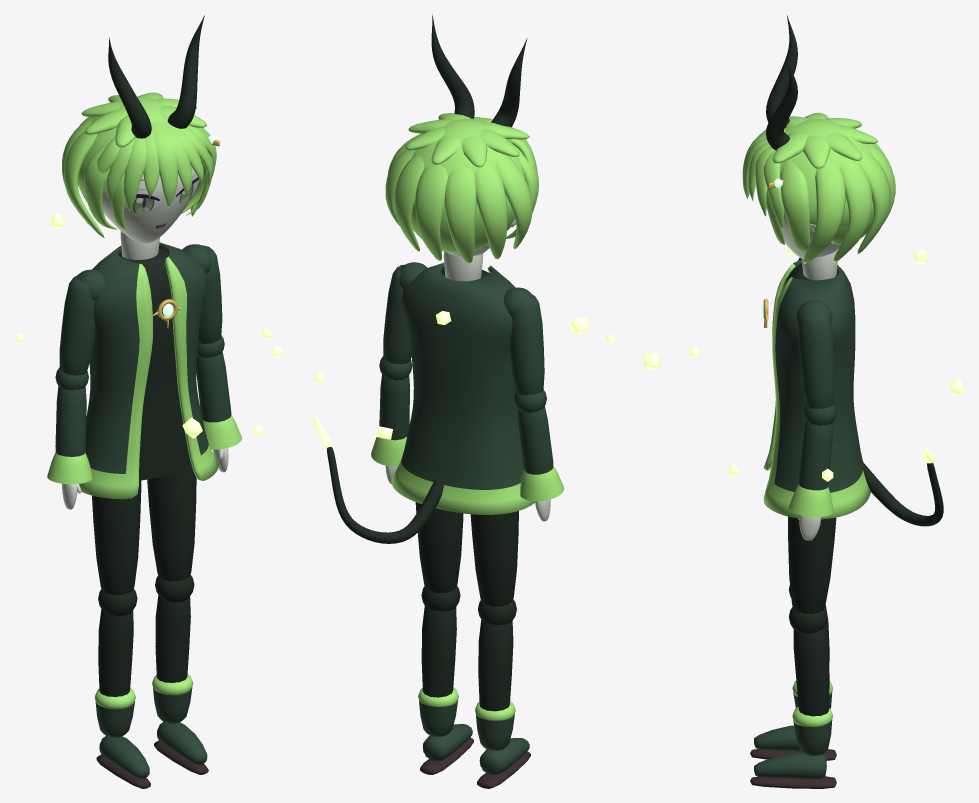
The model's file is segfault.glb.
The picture shows the model from 3 angles, left to right: view 1: azimuth 30°, elevation 25°; view 2: azimuth 150°, elevation 25°; view 3: azimuth 270°, elevation 25°; orthographic projection.
Visible parts, largest first — view 1: segfault:body.mesh, segfault:head.mesh, segfault:shinL.mesh, segfault:shinR.mesh, segfault:legR.mesh, segfault:legL.mesh, segfault:foreL.mesh, segfault:foreR.mesh, segfault:armL.mesh, segfault:armR.mesh; view 2: segfault:body.mesh, segfault:head.mesh, segfault:shinL.mesh, segfault:shinR.mesh, segfault:legL.mesh, segfault:foreL.mesh, segfault:armL.mesh, segfault:legR.mesh, segfault:foreR.mesh, segfault:armR.mesh; view 3: segfault:head.mesh, segfault:body.mesh, segfault:shinR.mesh, segfault:foreR.mesh, segfault:legR.mesh, segfault:armR.mesh, segfault:shinL.mesh.
Part boxes in pixels (x1,y1,x2,y2): segfault:body.mesh: [14, 213, 283, 499]; segfault:head.mesh: [62, 15, 220, 259]; segfault:shinL.mesh: [94, 589, 150, 788]; segfault:shinR.mesh: [152, 574, 208, 774]; segfault:legR.mesh: [147, 459, 196, 581]; segfault:legL.mesh: [92, 480, 141, 594]; segfault:foreL.mesh: [47, 367, 92, 509]; segfault:foreR.mesh: [196, 335, 242, 472]; segfault:armL.mesh: [59, 269, 105, 375]; segfault:armR.mesh: [182, 244, 222, 343]; segfault:body.mesh: [312, 262, 615, 543]; segfault:head.mesh: [385, 14, 538, 281]; segfault:shinL.mesh: [475, 599, 530, 788]; segfault:shinR.mesh: [418, 586, 473, 774]; segfault:legL.mesh: [470, 511, 518, 606]; segfault:foreL.mesh: [514, 389, 564, 521]; segfault:armL.mesh: [504, 287, 544, 395]; segfault:legR.mesh: [415, 502, 463, 592]; segfault:foreR.mesh: [371, 356, 412, 484]; segfault:armR.mesh: [383, 262, 427, 364]; segfault:head.mesh: [742, 15, 895, 280]; segfault:body.mesh: [644, 247, 964, 526]; segfault:shinR.mesh: [750, 607, 836, 788]; segfault:foreR.mesh: [788, 404, 836, 540]; segfault:legR.mesh: [788, 516, 836, 613]; segfault:armR.mesh: [796, 300, 834, 408]; segfault:shinL.mesh: [750, 585, 836, 760].
Bounding box in the file's own units: 0.6463 × 1.61 × 0.6372.
20 materials, 1 textured.
